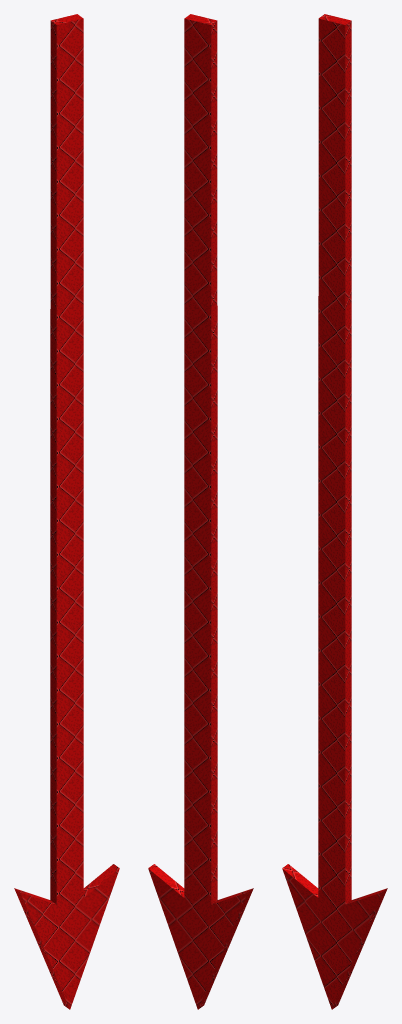
The model's file is arrow_rectangle_down_single_bent6.obj.
3 views of the same model, side by side, from view 1: azimuth 30°, elevation 25°; view 2: azimuth 150°, elevation 25°; view 3: azimuth 330°, elevation 25° (orthographic).
Parts seen in each view (by area): view 1: Cube; view 2: Cube; view 3: Cube.
Part boxes in pixels (<box>): Cube: <box>14,14,119,1009</box>; Cube: <box>148,14,253,1009</box>; Cube: <box>282,14,387,1009</box>.
Bounding box in the file's own units: 0.192 × 1.82 × 0.0207.
